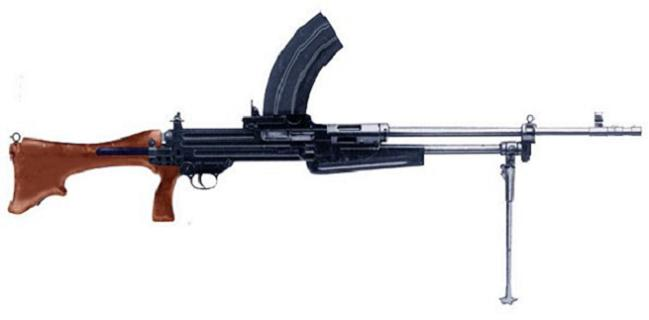rifle: (5, 28, 649, 307)
